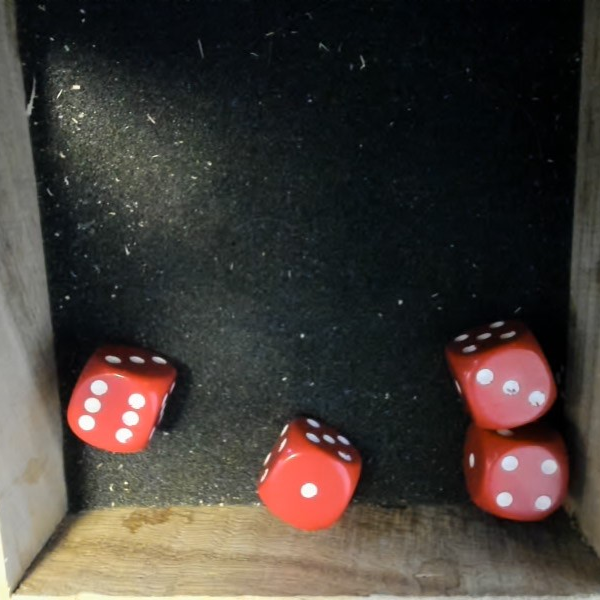red_die_pip1: (243, 405, 377, 542)
red_die_pip3: (437, 306, 564, 442)
red_die_pip4: (457, 433, 565, 529)
red_die_pip6: (63, 334, 181, 464)
